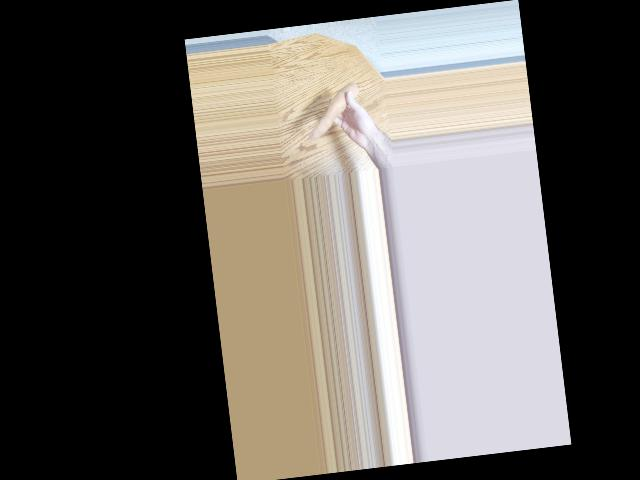sweet_potato: (304, 83, 364, 140)
